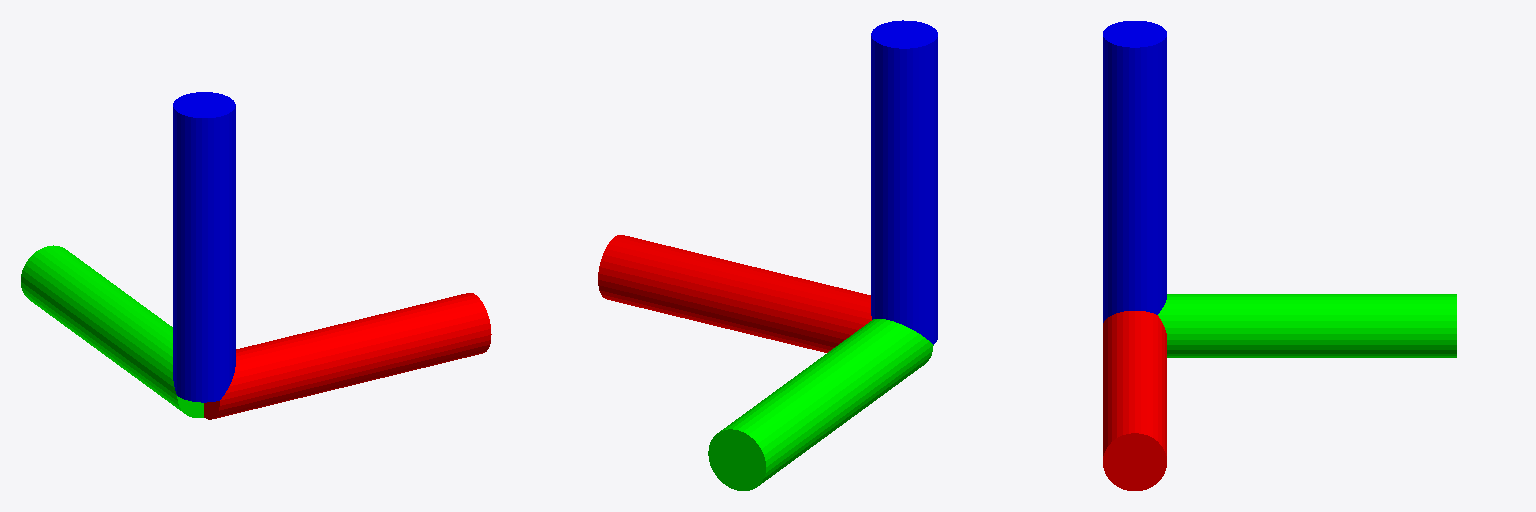
robot.urdf — frame:
<?xml version="1.0" ?>
<robot name="frame">
  <link name="base">
    <inertial>
      <origin rpy="0 0 0" xyz="0 0 0"/>
       <mass value="10.0"/>
       <inertia ixx="1" ixy="0" ixz="0" iyy="1" iyz="0" izz="1"/>
    </inertial>
    <collision>
      <origin rpy="0 0 0" xyz="0 0 0"/>
      <geometry>
	      <sphere radius="0.01"/>
      </geometry>
    </collision>
  </link>

  <joint name="base_to_x" type="fixed">
    <parent link="base"/>
    <child link="x"/>
    <origin rpy="0 1.5708 0" xyz="0.05 0 0"/>
  </joint>

  <link name="x">
    <inertial>
      <origin rpy="0 0 0" xyz="0 0 0"/>
       <mass value="10.0"/>
       <inertia ixx="1" ixy="0" ixz="0" iyy="1" iyz="0" izz="1"/>
    </inertial>
     <visual>
      <origin rpy="0 0 0" xyz="0 0 0"/>
      <geometry>
				<cylinder radius="0.01" length="0.1"/>
      </geometry>
      <material name="red_transparent">
        <color rgba="1 0 0 0.5"/>
        <specular rgb="11 1 1"/>
      </material>
    </visual>
  </link>

  <joint name="base_to_y" type="fixed">
    <parent link="base"/>
    <child link="y"/>
    <origin rpy="1.5708 0 0" xyz="0 0.05 0"/>
  </joint>

  <link name="y">
    <inertial>
      <origin rpy="0 0 0" xyz="0 0 0"/>
       <mass value="10.0"/>
       <inertia ixx="1" ixy="0" ixz="0" iyy="1" iyz="0" izz="1"/>
    </inertial>
     <visual>
      <origin rpy="0 0 0" xyz="0 0 0"/>
      <geometry>
				<cylinder radius="0.01" length="0.1"/>
      </geometry>
      <material name="green_transparent">
        <color rgba="0 1 0 0.5"/>
        <specular rgb="1 11 1"/>
      </material>
    </visual>
  </link>

  <joint name="base_to_z" type="fixed">
    <parent link="base"/>
    <child link="z"/>
    <origin rpy="0 0 0" xyz="0 0 0.05"/>
  </joint>

  <link name="z">
    <inertial>
      <origin rpy="0 0 0" xyz="0 0 0"/>
       <mass value="10.0"/>
       <inertia ixx="1" ixy="0" ixz="0" iyy="1" iyz="0" izz="1"/>
    </inertial>
     <visual>
      <origin rpy="0 0 0" xyz="0 0 0"/>
      <geometry>
				<cylinder radius="0.01" length="0.1"/>
      </geometry>
      <material name="blue_transparent">
        <color rgba="0 0 1 0.5"/>
        <specular rgb="1 1 11"/>
      </material>
    </visual>
  </link>
</robot>

--- Render facts (derived) ---
The picture shows the robot from 3 angles, left to right: view 1: azimuth 30°, elevation 25°; view 2: azimuth 150°, elevation 25°; view 3: azimuth 270°, elevation 25°; orthographic projection.
Model frame with 4 links and 3 joints (3 fixed), rooted at base, posed all joints at 0.
Visible links, largest first — view 1: z, x, y; view 2: z, x, y; view 3: y, z, x.
Link boxes in pixels (<box>): z: <box>173,92,235,402</box>; x: <box>204,293,491,419</box>; y: <box>21,245,203,417</box>; z: <box>871,20,937,344</box>; x: <box>598,235,871,352</box>; y: <box>708,319,933,490</box>; y: <box>1158,294,1456,357</box>; z: <box>1103,21,1166,322</box>; x: <box>1103,311,1166,490</box>.
Size in the robot's own frame: 0.11 by 0.11 by 0.11 metres.
Geometry: primitives only (box / cylinder / sphere), no mesh files.